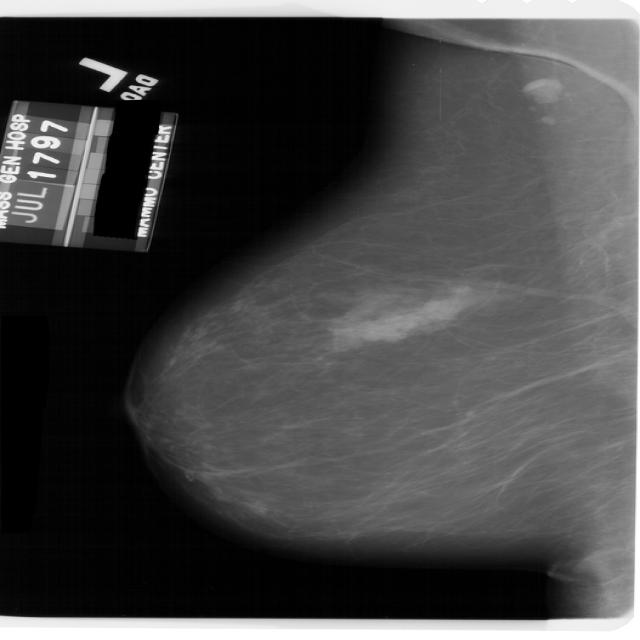tumour: (347, 298, 464, 341)
